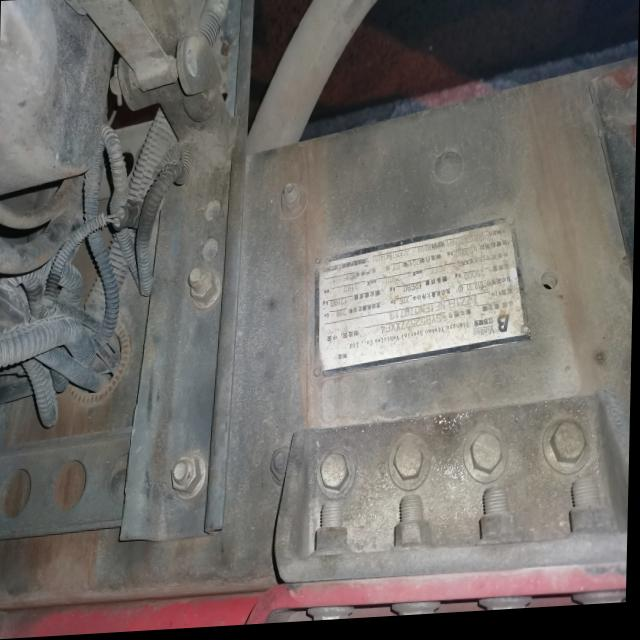Regular bolt: (570, 489, 613, 539), (480, 500, 521, 551), (397, 510, 434, 554), (552, 427, 588, 472), (472, 435, 505, 481), (396, 445, 427, 487), (173, 458, 204, 499), (323, 456, 353, 498), (317, 520, 351, 555), (190, 270, 218, 309), (271, 451, 292, 486), (282, 186, 304, 217)
